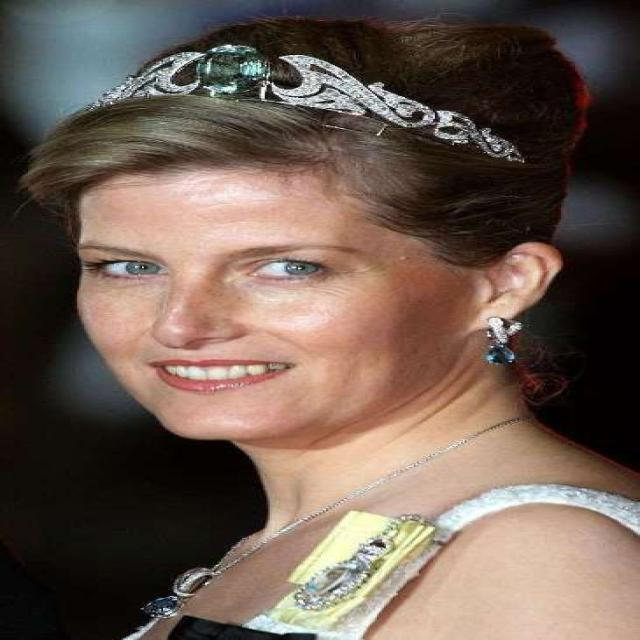Earring: (479, 309, 534, 379)
